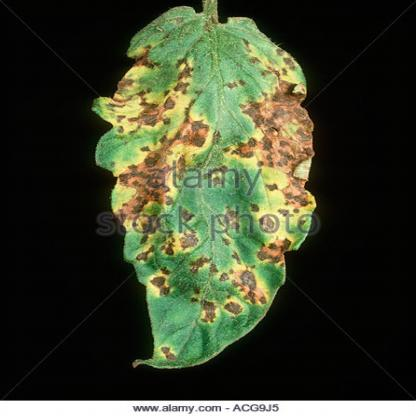tomato septoria leaf spot: (83, 6, 333, 373)
